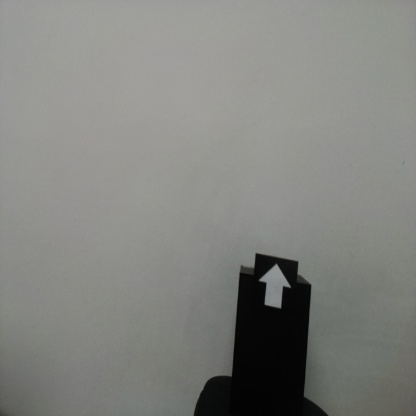id_1: (255, 256, 298, 317)
